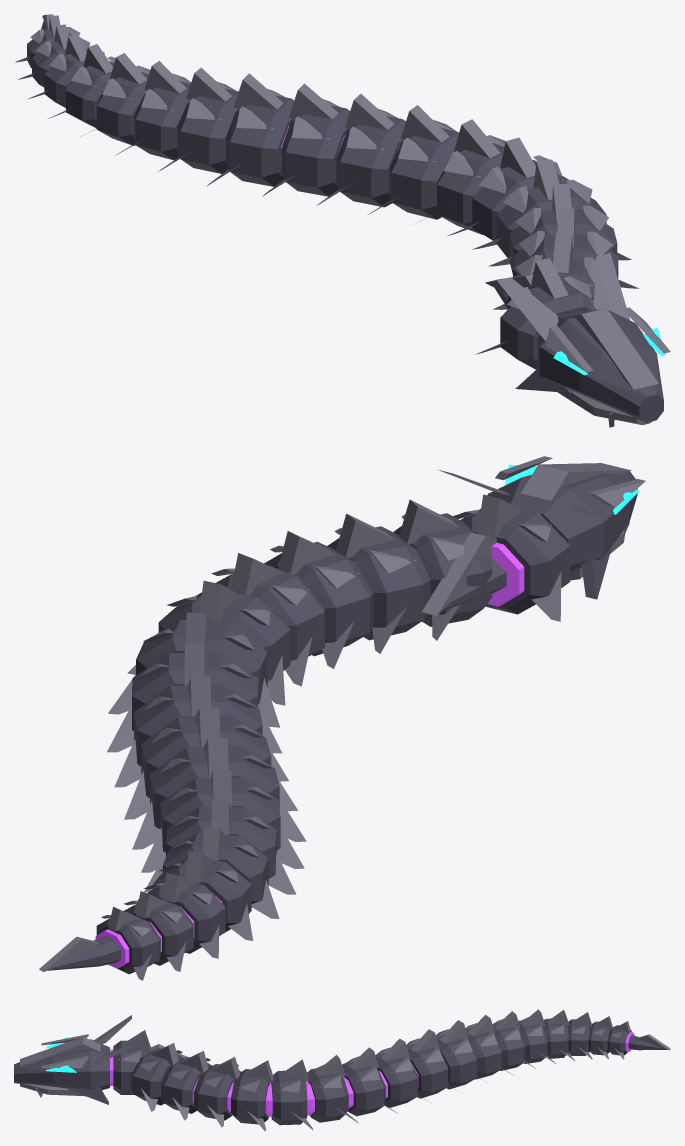
File: Snake.glb
The picture shows the model from 3 angles, top to bottom: view 1: azimuth 30°, elevation 25°; view 2: azimuth 150°, elevation 25°; view 3: azimuth 270°, elevation 25°; orthographic projection. The views are drawn at different scales.
Parts seen in each view (by area): view 1: Head, Segment_09, Segment_10, Segment_08, Segment_07, Segment_11, Segment_06, Segment, Segment_12, Segment_05, Segment_04, Segment_13 (+7 smaller); view 2: Head, Segment, Segment_02, Segment_03, Segment_10, Segment_04, Segment_01, Segment_06, Segment_05, Segment_07, Segment_08, Segment_09 (+9 smaller); view 3: Head, Segment_05, Segment_06, Segment_04, Segment_07, Segment_03, Segment_08, Segment_02, Segment_09, Segment_10, Segment_01, Segment_11 (+8 smaller).
Part boxes in pixels (x1,y1,x2,y2): Head: [497, 253, 670, 427]; Segment_09: [262, 83, 349, 196]; Segment_10: [206, 73, 293, 186]; Segment_08: [317, 94, 405, 207]; Segment_07: [367, 105, 459, 219]; Segment_11: [158, 67, 238, 173]; Segment_06: [427, 119, 505, 234]; Segment: [475, 258, 596, 369]; Segment_12: [115, 60, 191, 160]; Segment_05: [447, 137, 568, 240]; Segment_04: [472, 159, 606, 257]; Segment_13: [80, 53, 150, 145]; Head: [437, 456, 645, 599]; Segment: [453, 494, 570, 621]; Segment_02: [327, 513, 430, 653]; Segment_03: [264, 531, 373, 668]; Segment_10: [132, 737, 306, 849]; Segment_04: [211, 553, 324, 686]; Segment_01: [393, 499, 492, 640]; Segment_06: [108, 612, 280, 727]; Segment_05: [127, 581, 290, 705]; Segment_07: [107, 645, 281, 753]; Segment_08: [114, 676, 288, 787]; Segment_09: [124, 707, 297, 819]; Head: [14, 1015, 131, 1104]; Segment_05: [267, 1059, 313, 1130]; Segment_06: [306, 1055, 358, 1123]; Segment_04: [227, 1060, 273, 1131]; Segment_07: [342, 1047, 397, 1116]; Segment_03: [192, 1057, 240, 1127]; Segment_08: [375, 1038, 431, 1107]; Segment_02: [161, 1051, 212, 1120]; Segment_09: [406, 1029, 460, 1098]; Segment_10: [436, 1020, 490, 1089]; Segment_01: [131, 1043, 183, 1111]; Segment_11: [465, 1015, 513, 1079].
Size of the model in its own units: 4.01 by 1.22 by 11.96.
